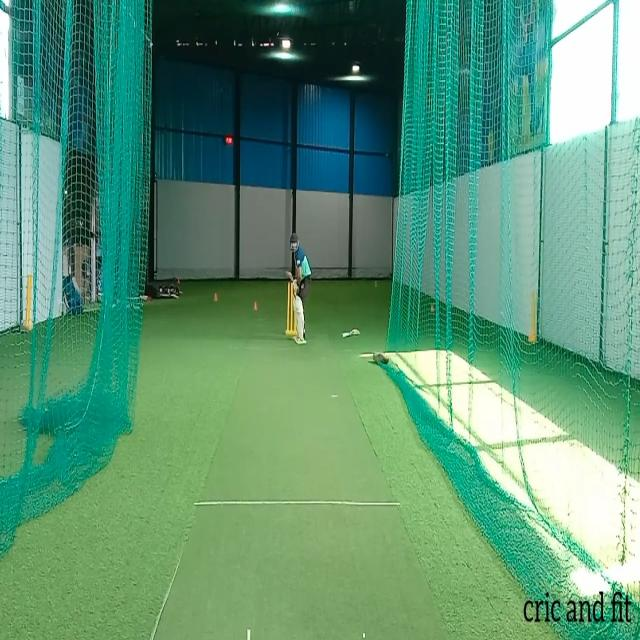batsman: (285, 231, 313, 346)
